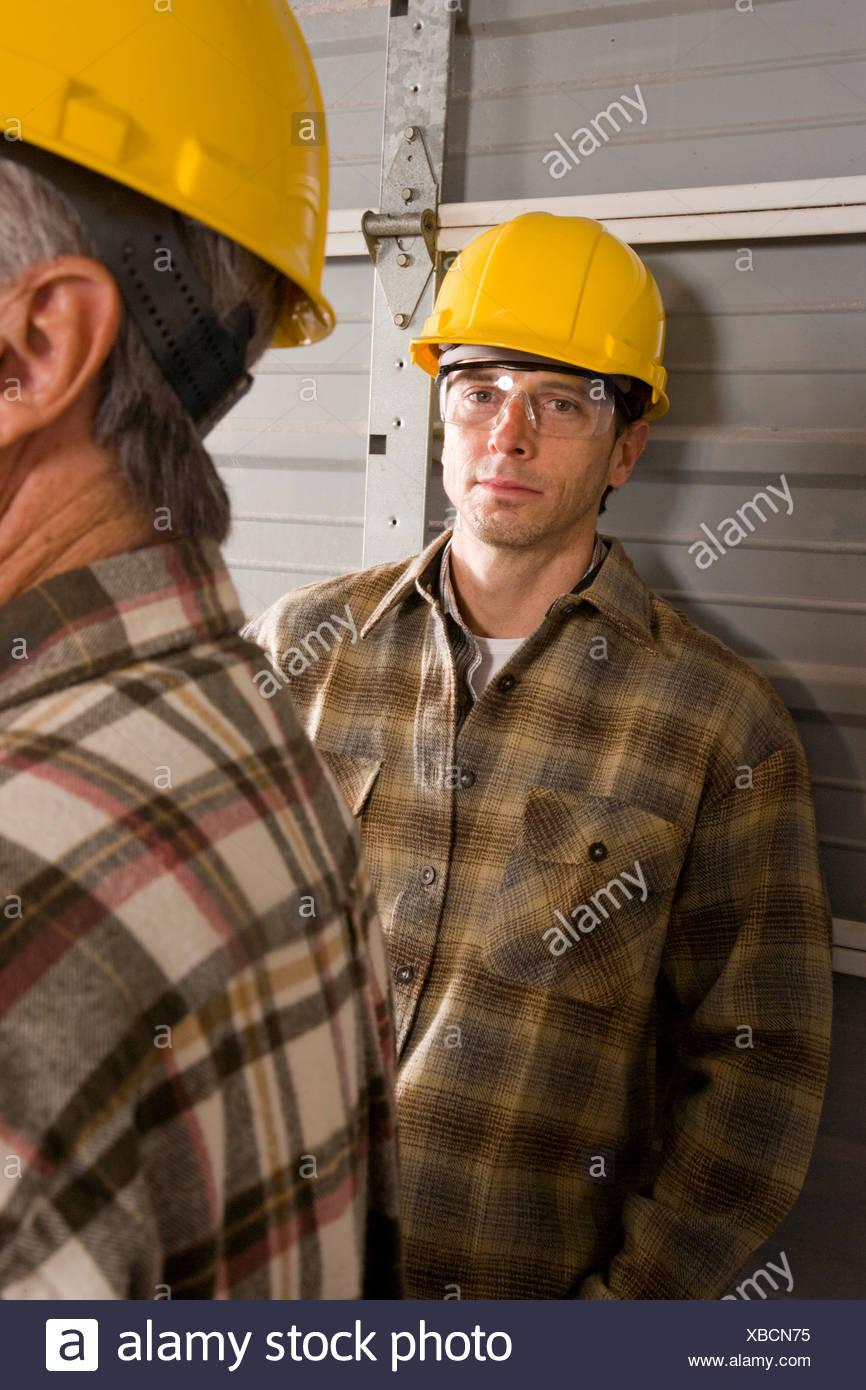hardhat: (409, 212, 673, 415)
worker: (247, 210, 831, 1302)
